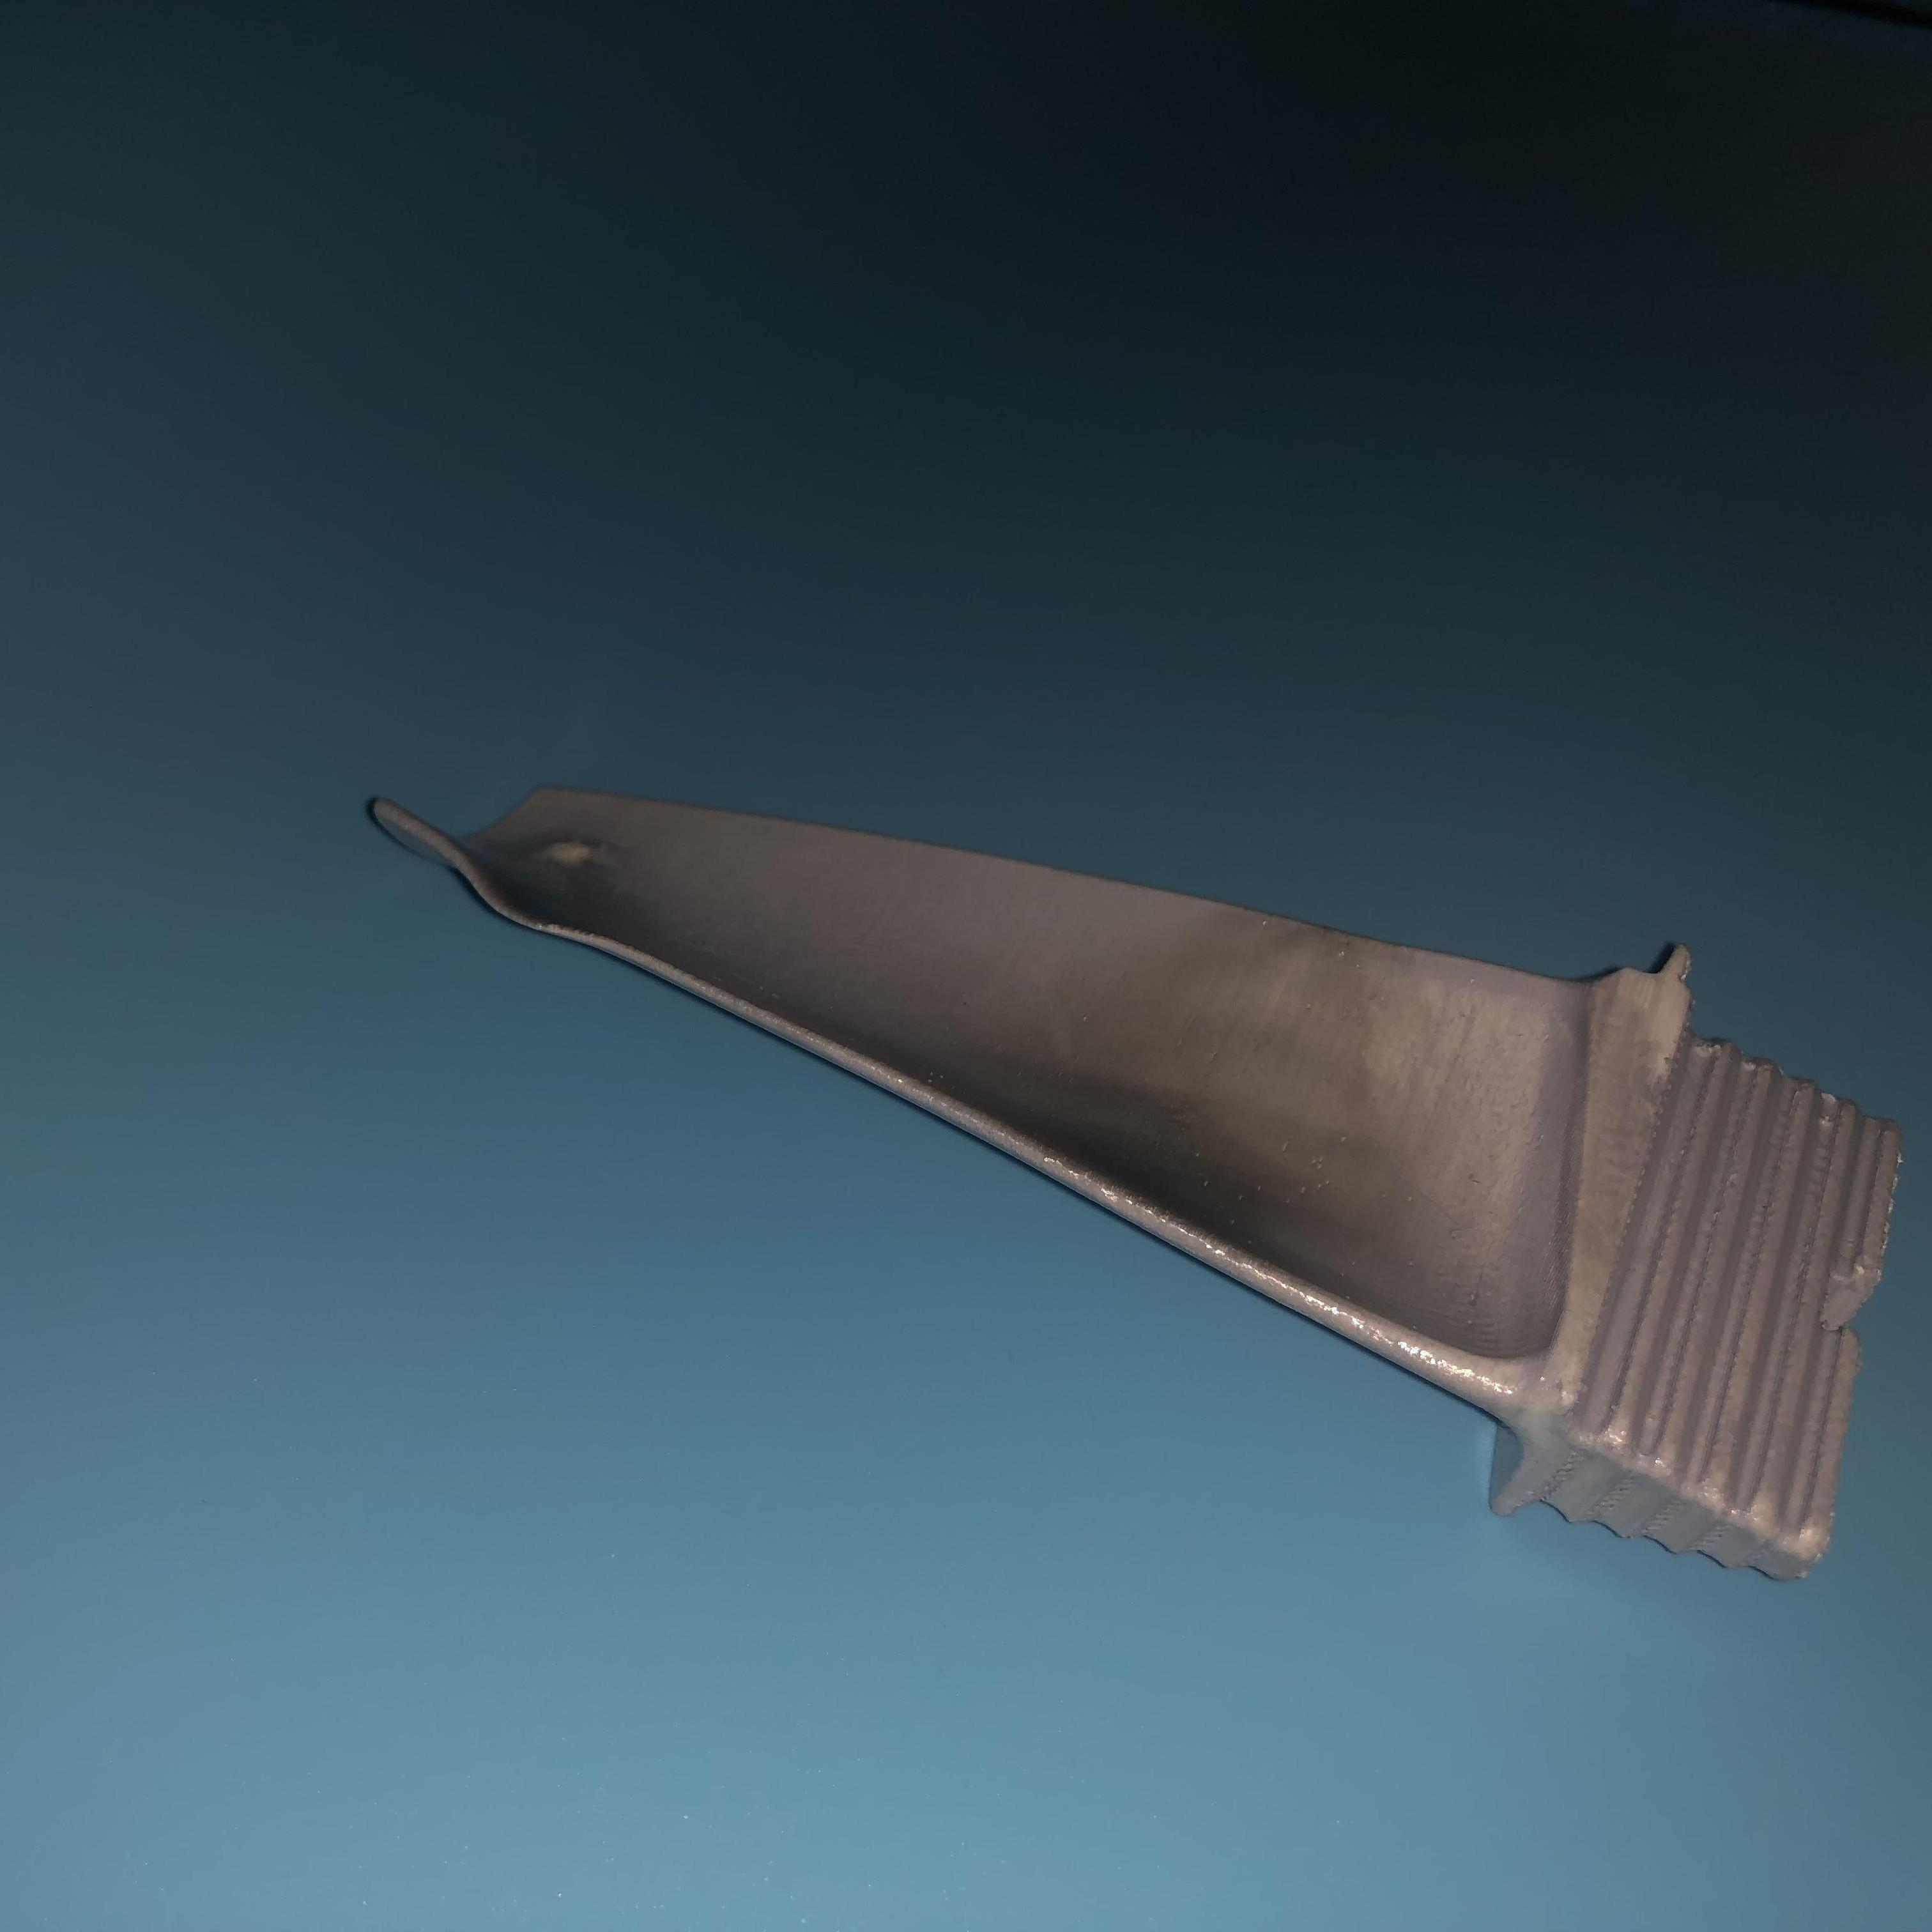ablation: (1014, 927, 1426, 1267), (453, 817, 637, 941)
